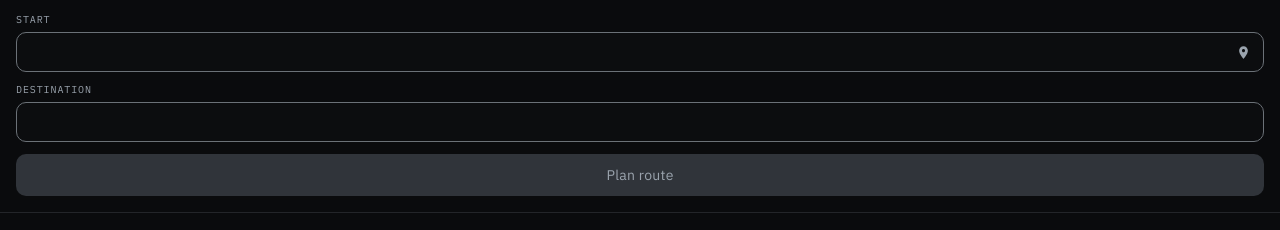
RoutePanel submit button accessibility › keeps focus on the Plan button across a submit
This screenshot has width=1280, height=230.
Type "123 Main" into the dropdown labelled "Start".
click(640, 52); type("123 Main")  # box [16,32,1264,72]
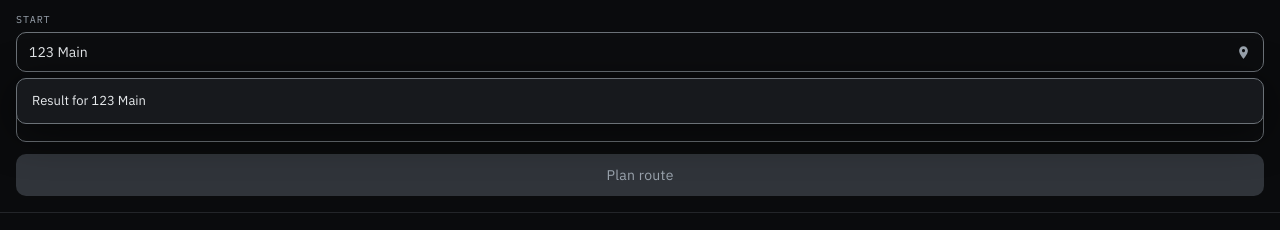
Click the option "Result for 123 Main".
click(89, 100)  # box [21,83,1259,118]
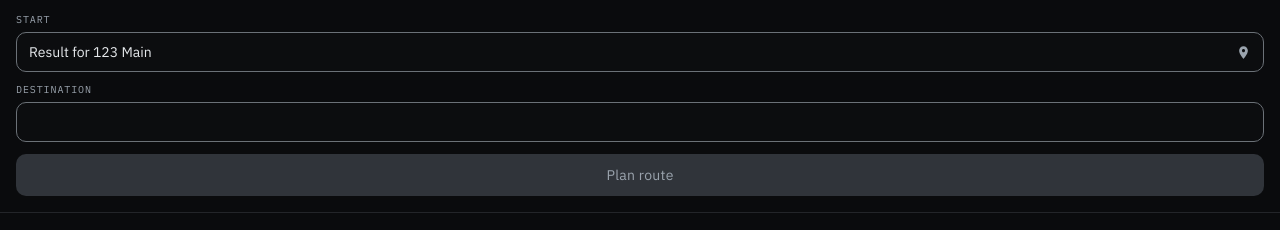
Type "456 Oak" into the dropdown labelled "Destination".
click(640, 122); type("456 Oak")  # box [16,102,1264,142]
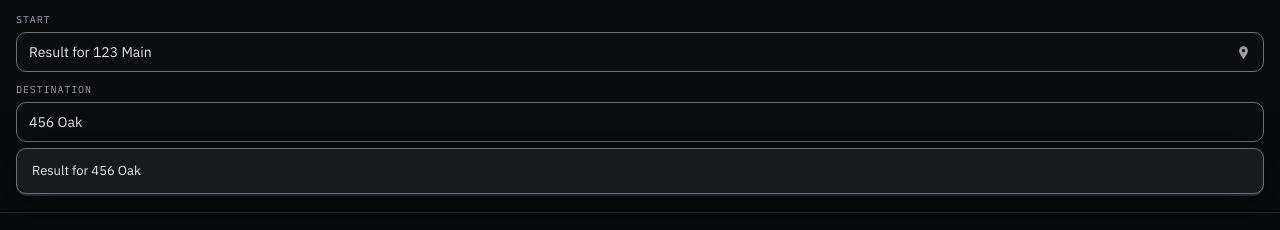
Click the option "Result for 456 Oak".
click(86, 170)  # box [21,153,1259,188]
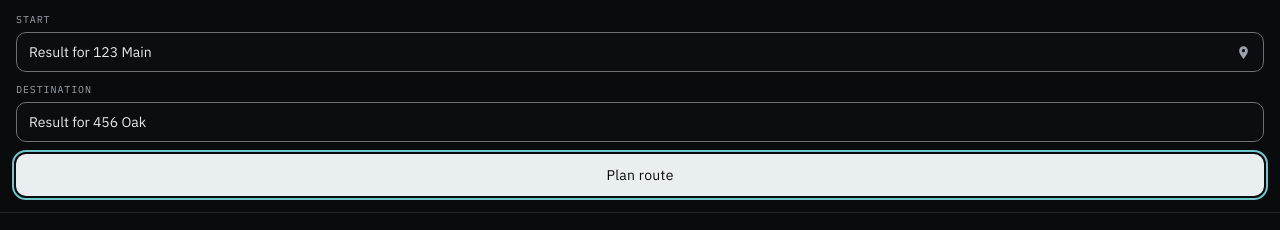
Click the button "Plan route".
click(640, 175)  # box [16,154,1264,196]
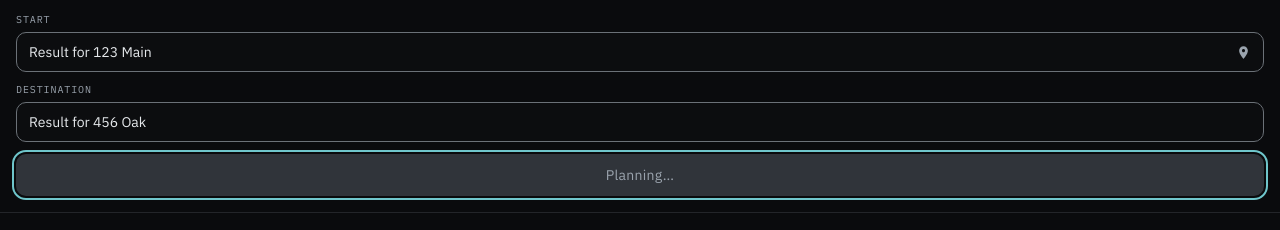
Check: the button "Planning…" is enabled, box [16,154,1264,196]
